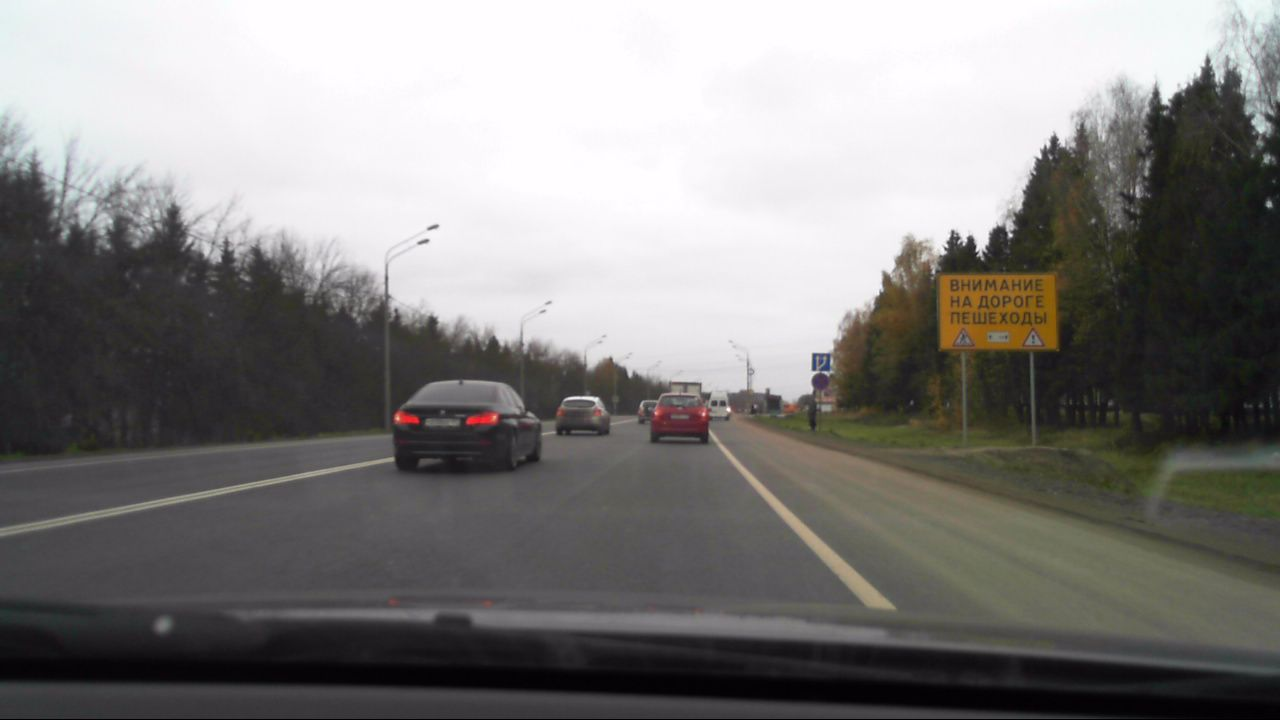No Parking: (811, 370, 829, 389)
